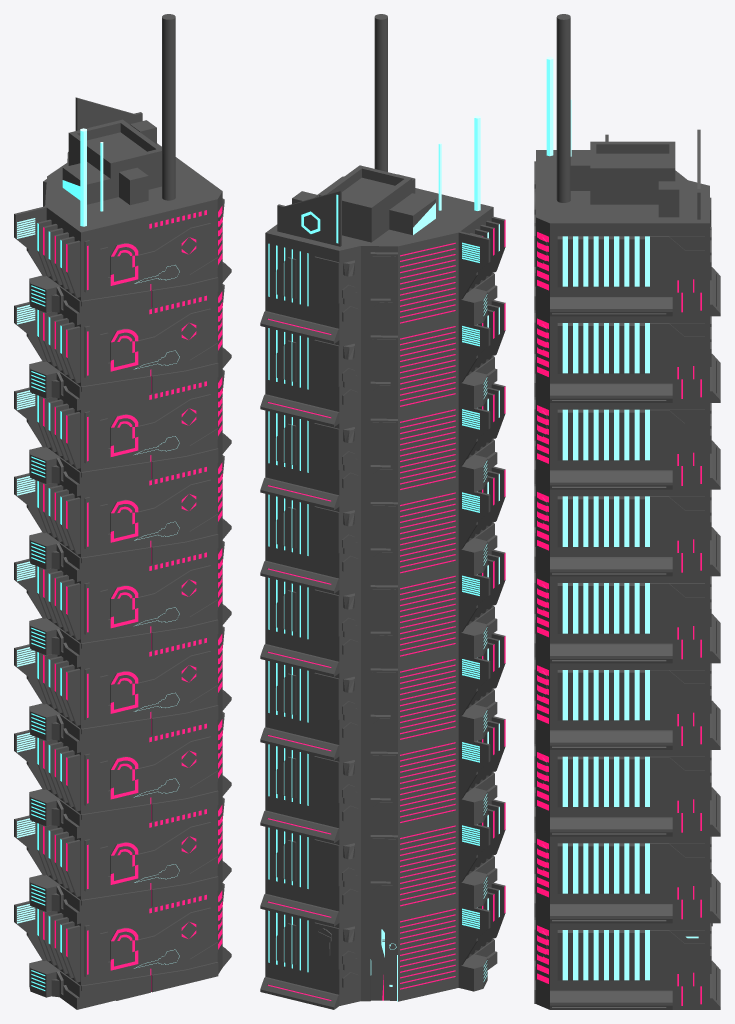
The model's file is glow building.glb.
3 views of the same model, side by side, from view 1: azimuth 30°, elevation 25°; view 2: azimuth 150°, elevation 25°; view 3: azimuth 270°, elevation 25° (orthographic). The views are drawn at different scales.
Parts seen in each view (by area): view 1: Object_16, Object_15, Object_14, Object_13, Object_12; view 2: Object_16, Object_14, Object_15, Object_13, Object_12; view 3: Object_16, Object_14, Object_15, Object_12, Object_13.
Part boxes in pixels (<box>): Object_16: <box>14,14,231,1009</box>; Object_15: <box>14,369,231,667</box>; Object_14: <box>14,626,231,924</box>; Object_13: <box>43,206,222,991</box>; Object_12: <box>17,128,179,990</box>; Object_16: <box>260,14,505,1009</box>; Object_14: <box>260,633,505,926</box>; Object_15: <box>260,383,505,676</box>; Object_13: <box>268,220,505,1000</box>; Object_12: <box>268,115,499,1001</box>; Object_16: <box>534,14,720,1009</box>; Object_14: <box>534,657,720,923</box>; Object_15: <box>534,397,720,663</box>; Object_12: <box>546,56,698,980</box>; Object_13: <box>537,232,701,1005</box>.
Size of the model in its own units: 12.69 by 61.52 by 10.71.
